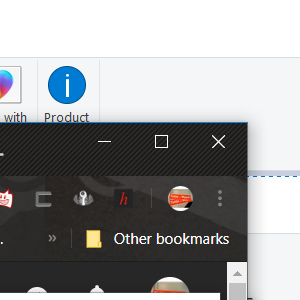close: (200, 126, 236, 157)
